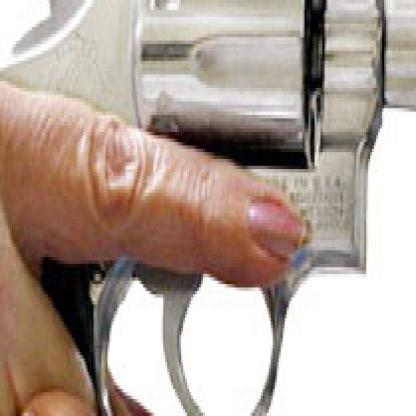gun: (0, 0, 414, 413)
